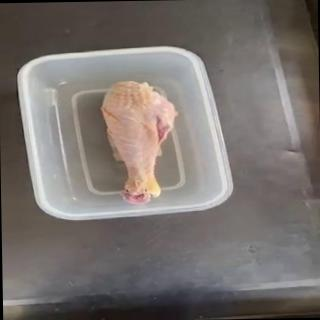Ayam: (99, 80, 181, 205)
